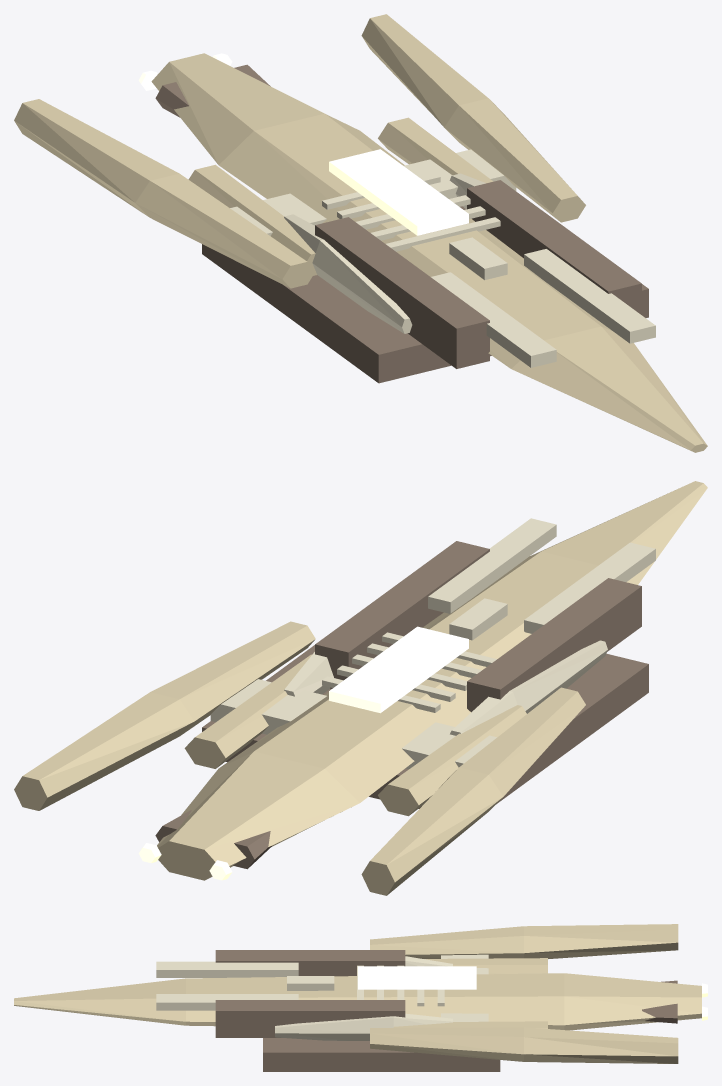
3 views of the same model, one above another, from view 1: azimuth 30°, elevation 25°; view 2: azimuth 150°, elevation 25°; view 3: azimuth 270°, elevation 25° (orthographic). The views are drawn at different scales.
Bounding box in the file's own units: 5.62 × 1.11 × 13.22.
